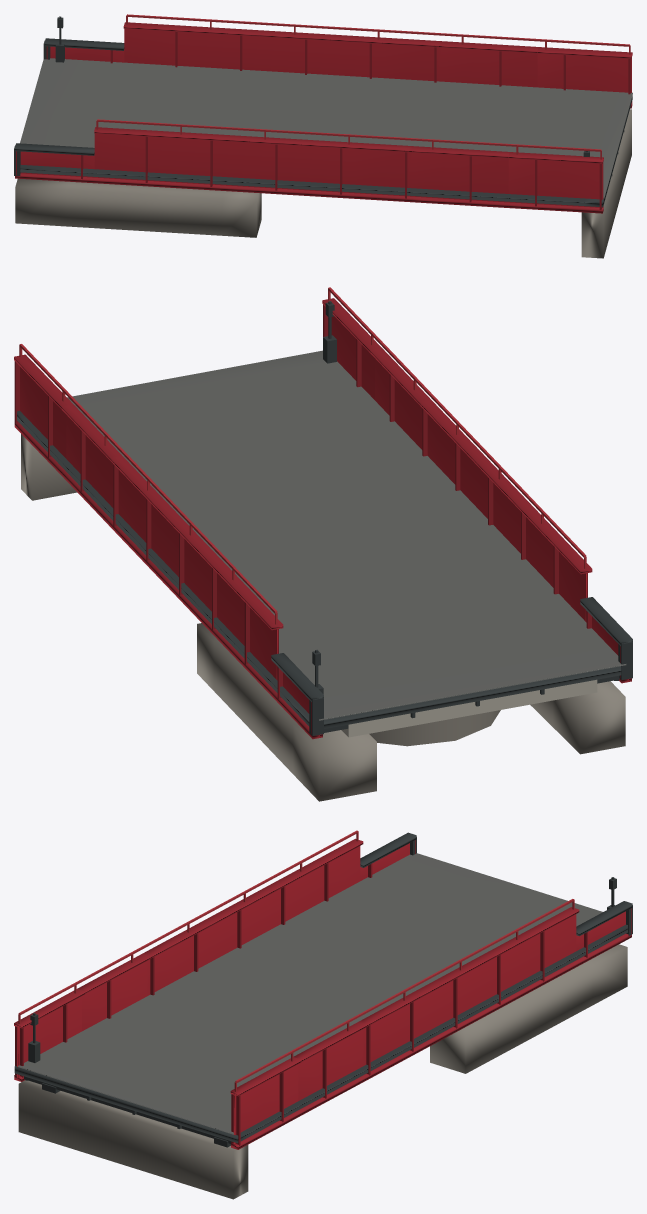
Rendered from pont-de-la-fonderie-far.glb.
3 views of the same model, one above another, from view 1: azimuth 30°, elevation 25°; view 2: azimuth 150°, elevation 25°; view 3: azimuth 270°, elevation 25° (orthographic). The views are drawn at different scales.
Visible parts, largest first — view 1: pont-de-la-fonderie-0-asphalt, pont-de-la-fonderie-0-steel, pont-de-la-fonderie-0-stone, pont-de-la-fonderie-0-edge, pont-de-la-fonderie-0-iron, pont-de-la-fonderie-0-rail; view 2: pont-de-la-fonderie-0-asphalt, pont-de-la-fonderie-0-steel, pont-de-la-fonderie-0-stone, pont-de-la-fonderie-0-edge, pont-de-la-fonderie-0-iron, pont-de-la-fonderie-0-rail, pont-de-la-fonderie-0-concrete; view 3: pont-de-la-fonderie-0-asphalt, pont-de-la-fonderie-0-steel, pont-de-la-fonderie-0-stone, pont-de-la-fonderie-0-edge, pont-de-la-fonderie-0-iron, pont-de-la-fonderie-0-rail.
Boxes of the visible parts, x1,y1,x2,y2 form: pont-de-la-fonderie-0-asphalt: [20, 58, 632, 198]; pont-de-la-fonderie-0-steel: [20, 28, 631, 207]; pont-de-la-fonderie-0-stone: [15, 109, 631, 258]; pont-de-la-fonderie-0-edge: [15, 22, 632, 213]; pont-de-la-fonderie-0-iron: [14, 16, 632, 207]; pont-de-la-fonderie-0-rail: [96, 14, 630, 159]; pont-de-la-fonderie-0-asphalt: [67, 350, 626, 720]; pont-de-la-fonderie-0-steel: [20, 316, 618, 713]; pont-de-la-fonderie-0-stone: [21, 434, 625, 801]; pont-de-la-fonderie-0-edge: [14, 298, 631, 739]; pont-de-la-fonderie-0-iron: [17, 301, 632, 735]; pont-de-la-fonderie-0-rail: [19, 287, 586, 624]; pont-de-la-fonderie-0-concrete: [341, 679, 597, 737]; pont-de-la-fonderie-0-asphalt: [18, 853, 602, 1134]; pont-de-la-fonderie-0-steel: [17, 843, 625, 1145]; pont-de-la-fonderie-0-stone: [18, 944, 627, 1199]; pont-de-la-fonderie-0-edge: [14, 838, 631, 1149]; pont-de-la-fonderie-0-iron: [14, 832, 632, 1147]; pont-de-la-fonderie-0-rail: [18, 830, 574, 1091].
Bounding box in the file's own units: 23.84 × 4.61 × 21.97.
